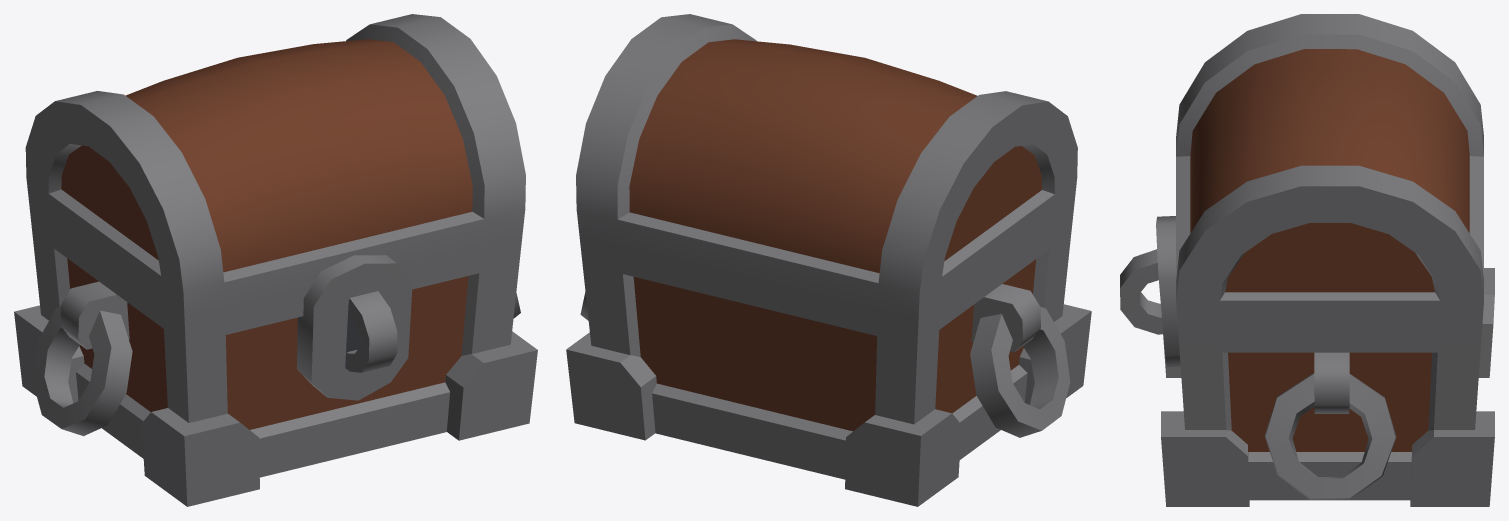
Rendered from Chest.fbx.
3 views of the same model, side by side, from view 1: azimuth 30°, elevation 25°; view 2: azimuth 150°, elevation 25°; view 3: azimuth 270°, elevation 25° (orthographic). The views are drawn at different scales.
Parts seen in each view (by area): view 1: Cover, Chest; view 2: Cover, Chest; view 3: Cover, Chest.
Boxes of the visible parts, <box> form: Cover: <box>25,14,525,400</box>; Chest: <box>14,205,537,506</box>; Cover: <box>576,14,1077,319</box>; Chest: <box>566,206,1091,506</box>; Cover: <box>1156,14,1483,367</box>; Chest: <box>1120,249,1494,506</box>.
Bounding box in the file's own units: 153 × 108 × 112.
